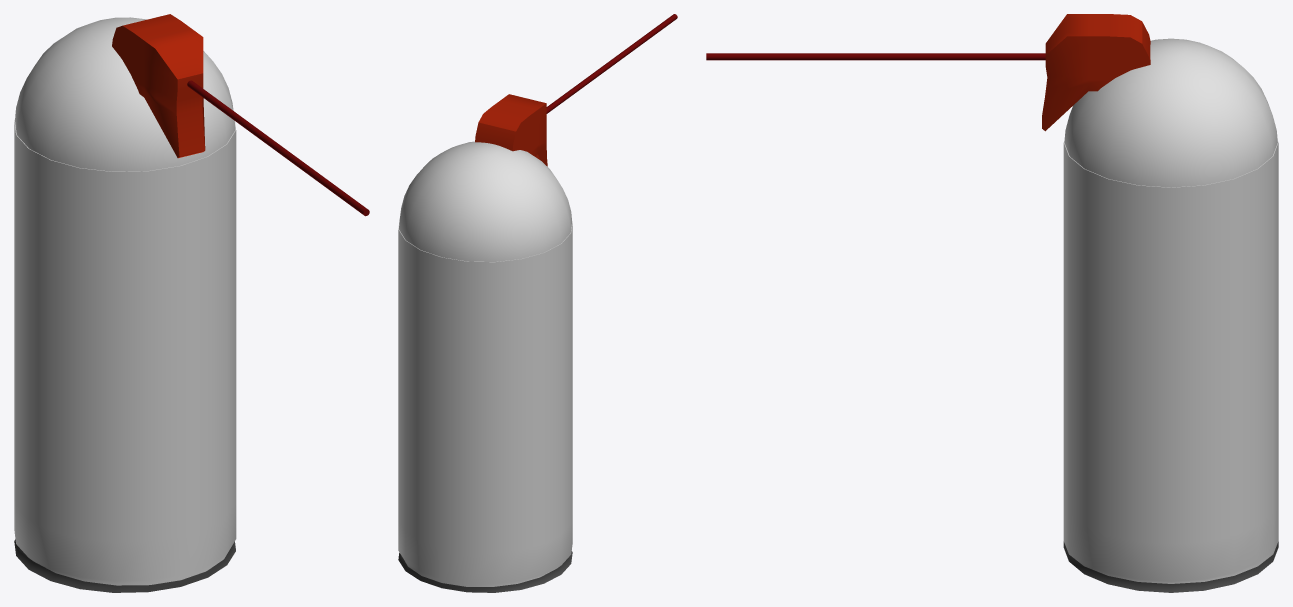
The model's file is AirCanisterExp.obj.
3 views of the same model, side by side, from view 1: azimuth 30°, elevation 25°; view 2: azimuth 150°, elevation 25°; view 3: azimuth 270°, elevation 25° (orthographic). The views are drawn at different scales.
Visible parts, largest first — view 1: pCylinder1, pCylinder1 pSphere1, pCylinder1 pCube1, pCylinder1 pCylinder2; view 2: pCylinder1, pCylinder1 pSphere1, pCylinder1 pCube1, pCylinder1 pCylinder2; view 3: pCylinder1, pCylinder1 pSphere1, pCylinder1 pCube1, pCylinder1 pCylinder2.
Boxes of the visible parts, x1,y1,x2,y2 form: pCylinder1: [14, 119, 236, 592]; pCylinder1 pSphere1: [15, 17, 235, 171]; pCylinder1 pCube1: [112, 14, 205, 158]; pCylinder1 pCylinder2: [187, 80, 369, 216]; pCylinder1: [398, 218, 572, 592]; pCylinder1 pSphere1: [399, 141, 571, 261]; pCylinder1 pCube1: [475, 94, 547, 166]; pCylinder1 pCylinder2: [546, 14, 677, 113]; pCylinder1: [1063, 140, 1278, 592]; pCylinder1 pSphere1: [1064, 38, 1277, 187]; pCylinder1 pCube1: [1042, 14, 1150, 131]; pCylinder1 pCylinder2: [706, 53, 1045, 60].
Size of the model in its own units: 2 by 5.37 by 5.33.
